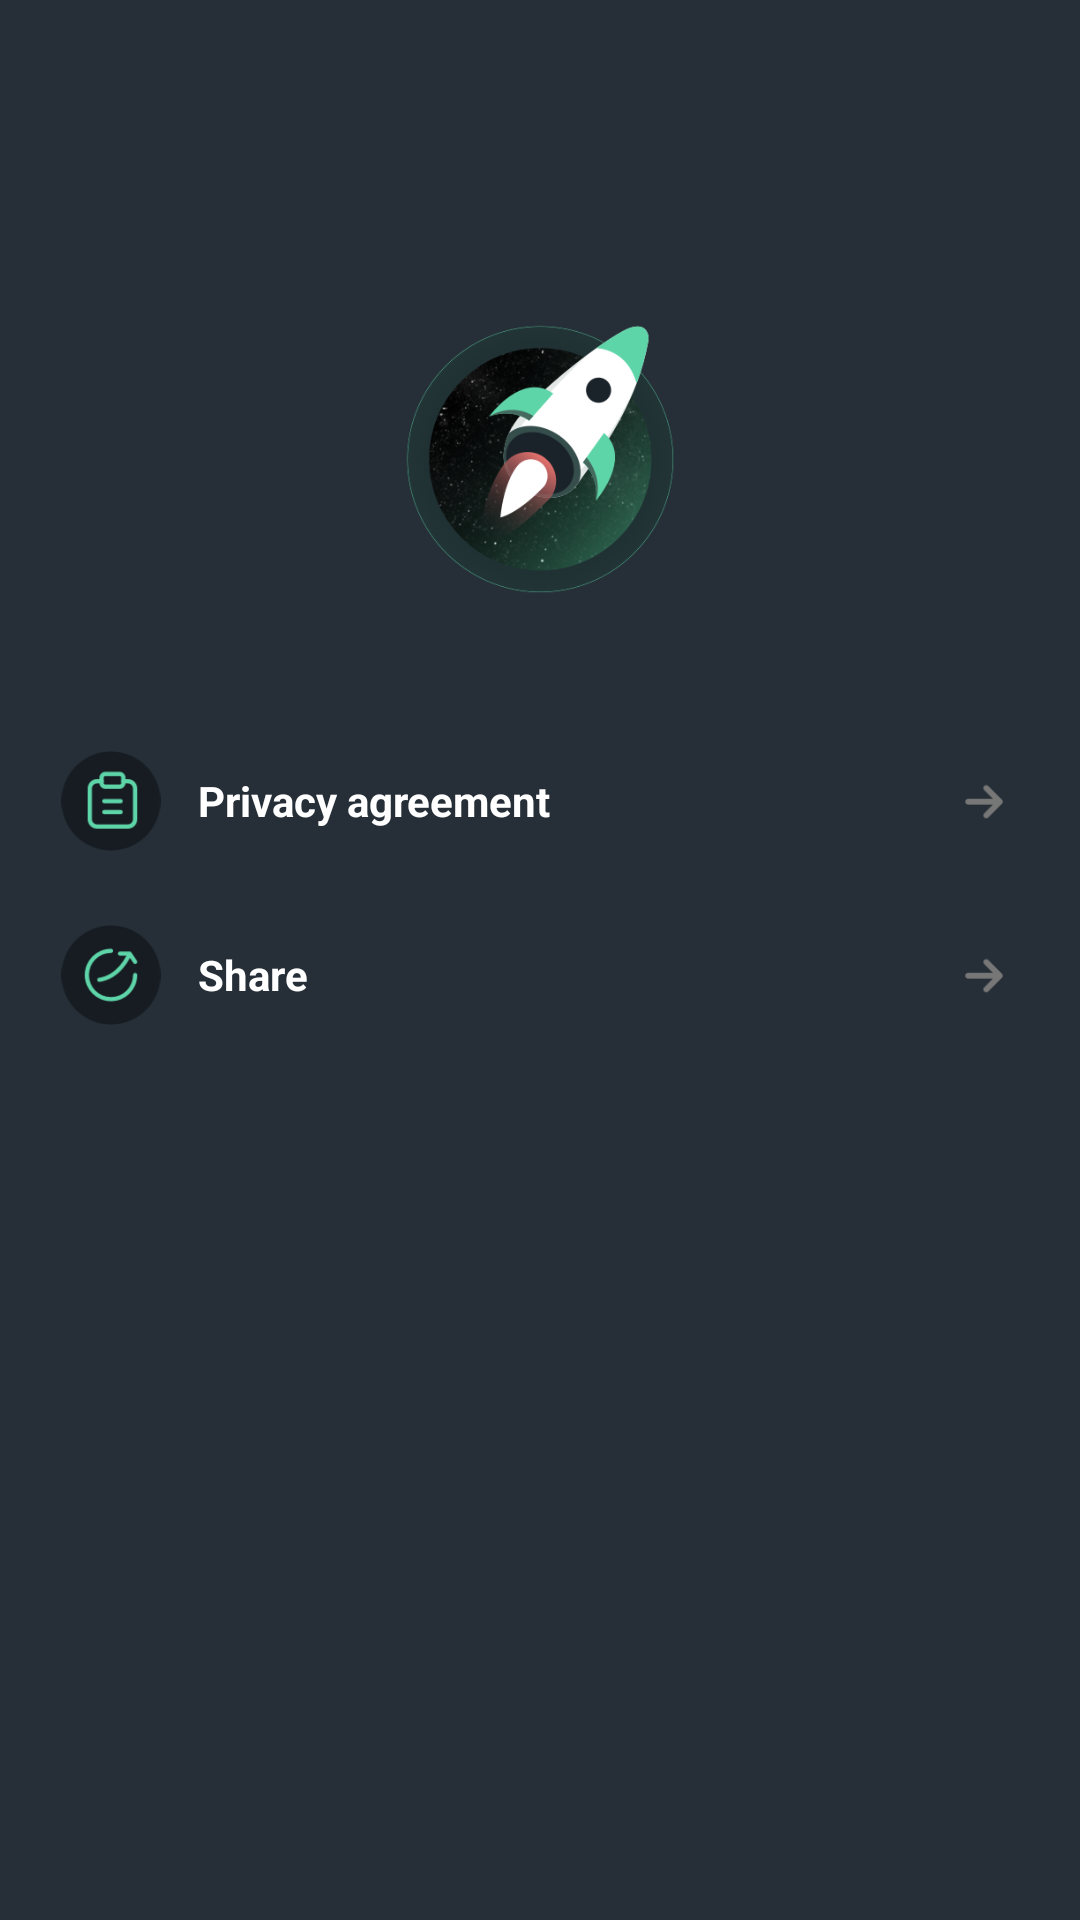

Screen size 1080px x 1920px. Icon name, then its box in pixels as (x1, y1, x2, y2):
right: (965, 785, 1003, 818), (965, 959, 1003, 992)
